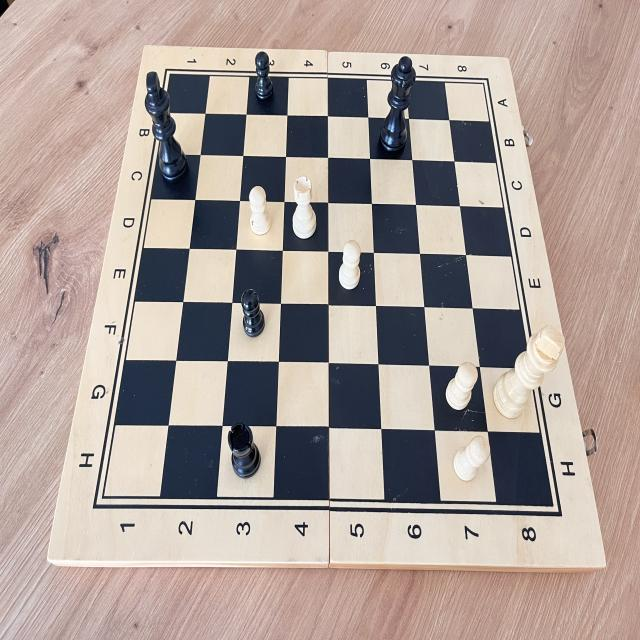black-king: (136, 66, 198, 192)
black-pawn: (235, 280, 269, 344), (248, 45, 278, 108)
black-queen: (374, 50, 422, 161)
black-rook: (221, 415, 269, 488)
white-king: (486, 316, 566, 430)
white-pawn: (451, 428, 495, 497), (442, 355, 482, 417), (242, 178, 278, 244), (332, 232, 366, 296)
white-rook: (289, 170, 320, 246)
